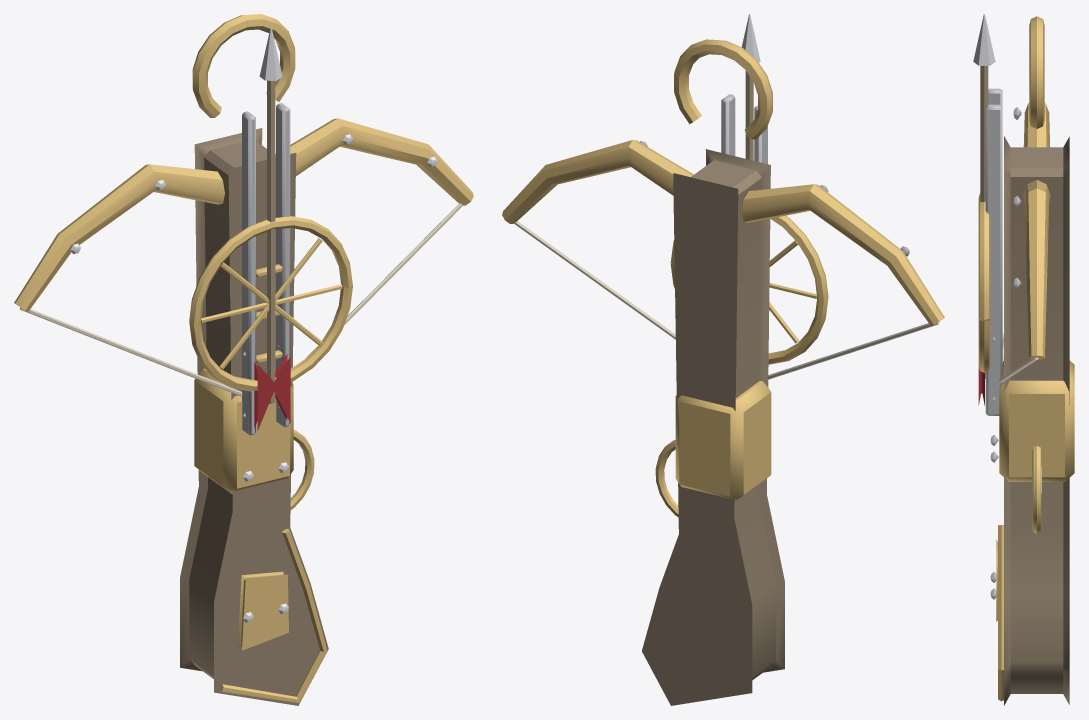
The model's file is sun_dial_crossbow.glb.
The picture shows the model from 3 angles, left to right: view 1: azimuth 30°, elevation 25°; view 2: azimuth 150°, elevation 25°; view 3: azimuth 270°, elevation 25°; orthographic projection. The views are drawn at different scales.
Parts seen in each view (by area): view 1: sun_dial_crossbow; view 2: sun_dial_crossbow; view 3: sun_dial_crossbow.
Part boxes in pixels (bbox=[...]): sun_dial_crossbow: bbox=[14, 14, 473, 705]; sun_dial_crossbow: bbox=[502, 14, 944, 705]; sun_dial_crossbow: bbox=[973, 14, 1074, 705].
Bounding box in the file's own units: 0.7799 × 1.13 × 0.1545.
